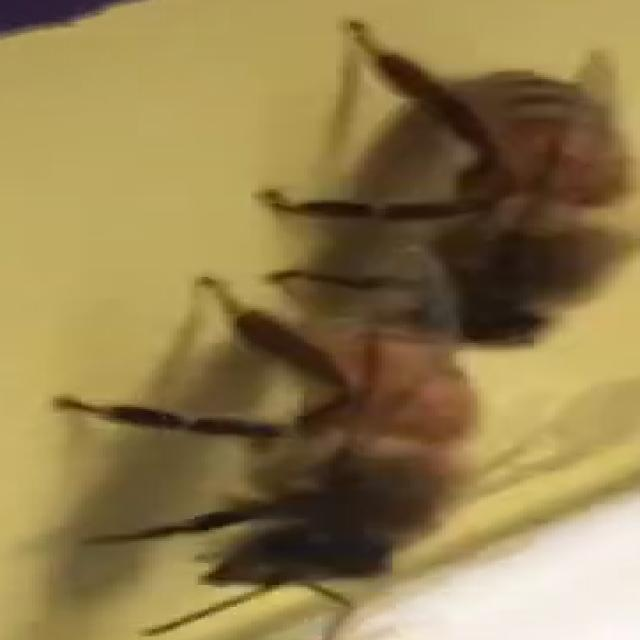honeybee: (56, 299, 512, 611), (141, 44, 640, 299)
